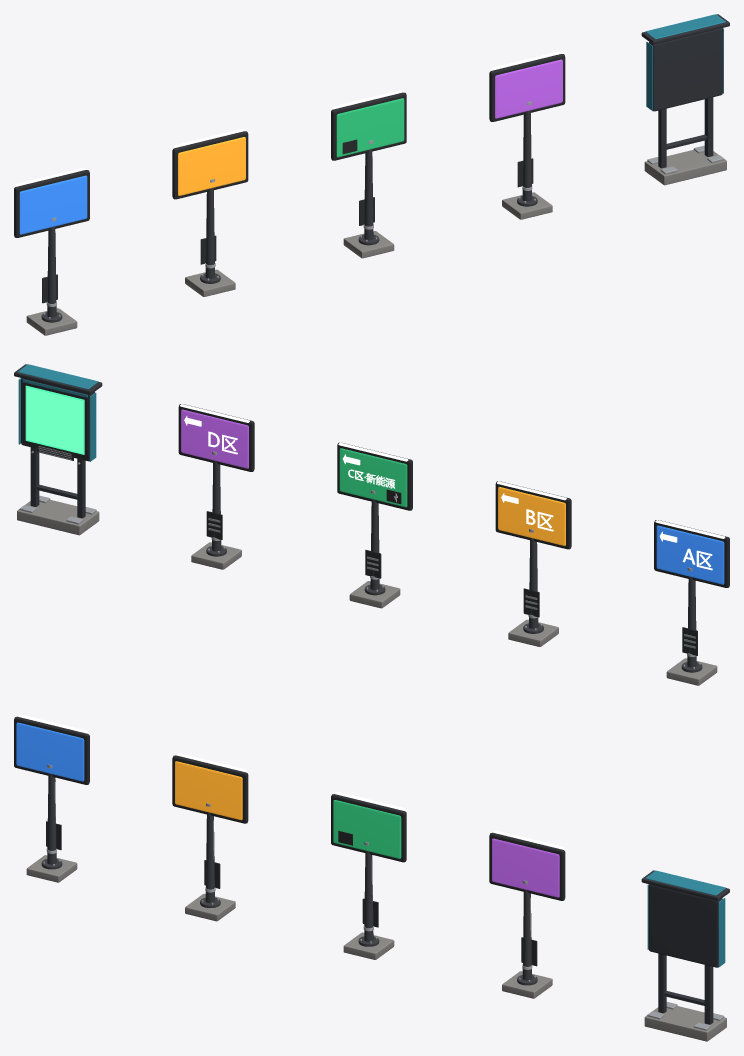
Rendered from signage.glb.
The picture shows the model from 3 angles, top to bottom: view 1: azimuth 30°, elevation 25°; view 2: azimuth 150°, elevation 25°; view 3: azimuth 330°, elevation 25°; orthographic projection.
Visible parts, largest first — view 1: InfoPylon, ZoneSign_B, ZoneSign_D, ZoneSign_C, ZoneSign_A; view 2: InfoPylon, ZoneSign_B, ZoneSign_D, ZoneSign_C, ZoneSign_A, InfoScreenDemo; view 3: InfoPylon, ZoneSign_B, ZoneSign_D, ZoneSign_C, ZoneSign_A.
Boxes of the visible parts, x1=… form: InfoPylon: x1=641, y1=14, x2=729, y2=185; ZoneSign_B: x1=172, y1=129, x2=248, y2=296; ZoneSign_D: x1=489, y1=51, x2=565, y2=219; ZoneSign_C: x1=331, y1=90, x2=406, y2=258; ZoneSign_A: x1=14, y1=167, x2=89, y2=335; InfoPylon: x1=14, y1=364, x2=102, y2=535; ZoneSign_B: x1=495, y1=481, x2=571, y2=646; ZoneSign_D: x1=178, y1=404, x2=254, y2=569; ZoneSign_C: x1=337, y1=442, x2=412, y2=608; ZoneSign_A: x1=654, y1=520, x2=729, y2=685; InfoScreenDemo: x1=27, y1=388, x2=82, y2=453; InfoPylon: x1=641, y1=870, x2=729, y2=1041; ZoneSign_B: x1=172, y1=753, x2=248, y2=921; ZoneSign_D: x1=489, y1=830, x2=565, y2=998; ZoneSign_C: x1=331, y1=792, x2=406, y2=959; ZoneSign_A: x1=14, y1=714, x2=89, y2=882.
Size of the model in its own units: 13.44 by 2.68 by 0.66.
